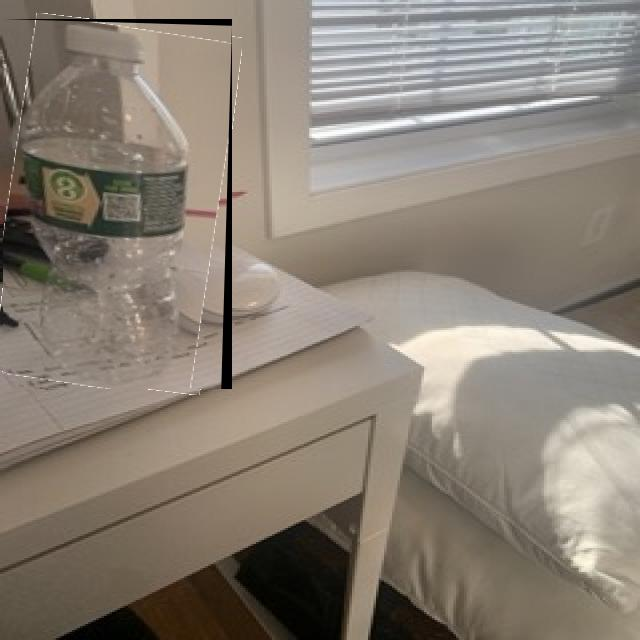water_bottle: (3, 19, 232, 389)
